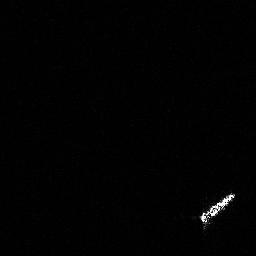ship: (197, 189, 237, 230)
